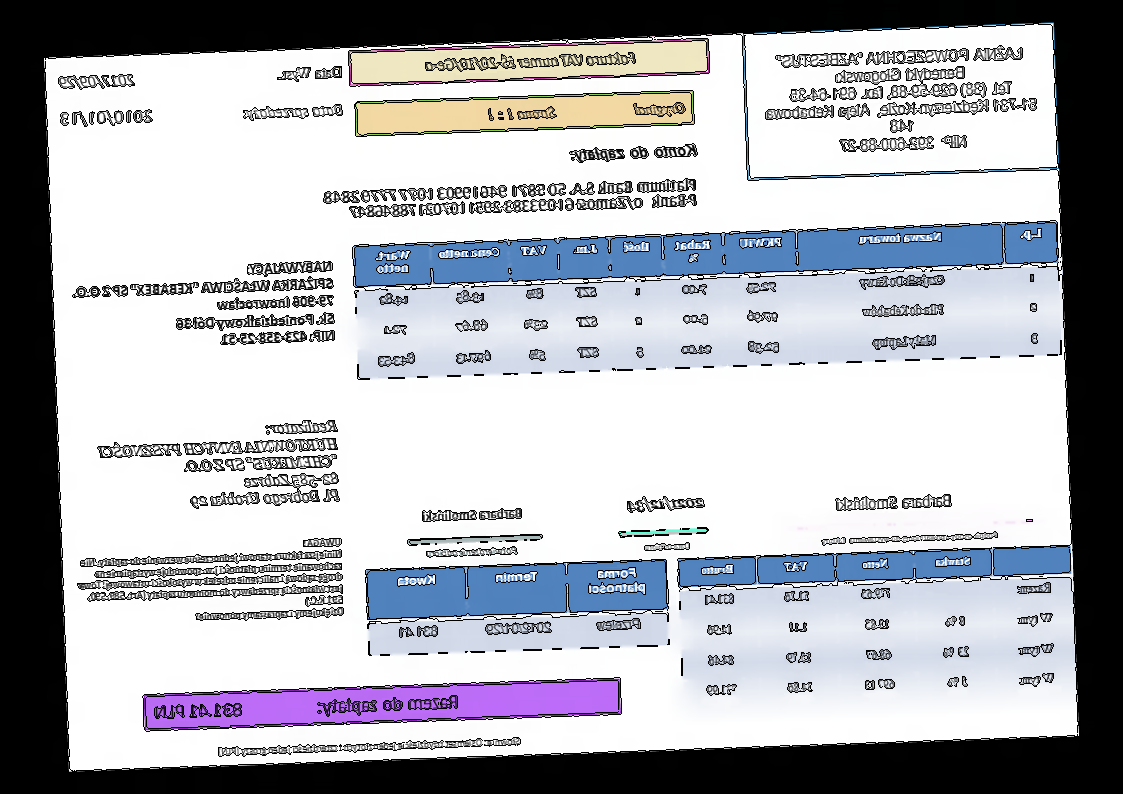Table: (352, 220, 1063, 381), (677, 544, 1077, 710), (364, 557, 671, 658)
TextBox: (761, 41, 1041, 158), (70, 259, 337, 353), (75, 536, 345, 628), (95, 416, 342, 512), (321, 175, 699, 222), (152, 691, 461, 724), (215, 734, 524, 760), (484, 99, 688, 125), (422, 49, 639, 73), (819, 528, 1000, 547), (567, 140, 700, 165), (834, 491, 953, 513), (241, 101, 346, 123), (60, 107, 154, 130), (420, 505, 525, 523), (625, 493, 706, 516), (58, 71, 138, 91), (276, 63, 345, 85), (426, 544, 520, 559), (644, 540, 692, 552)
